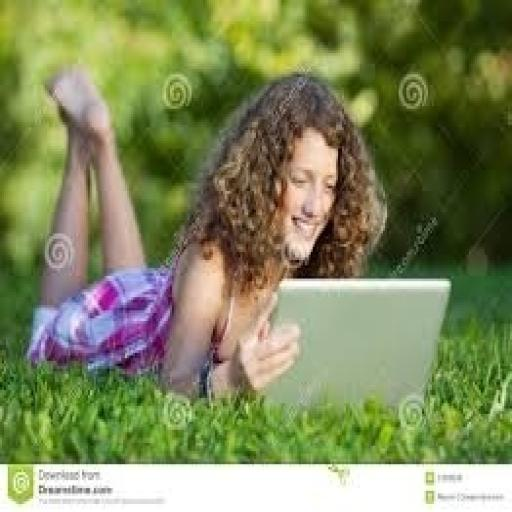using_laptop: (252, 273, 452, 417)
